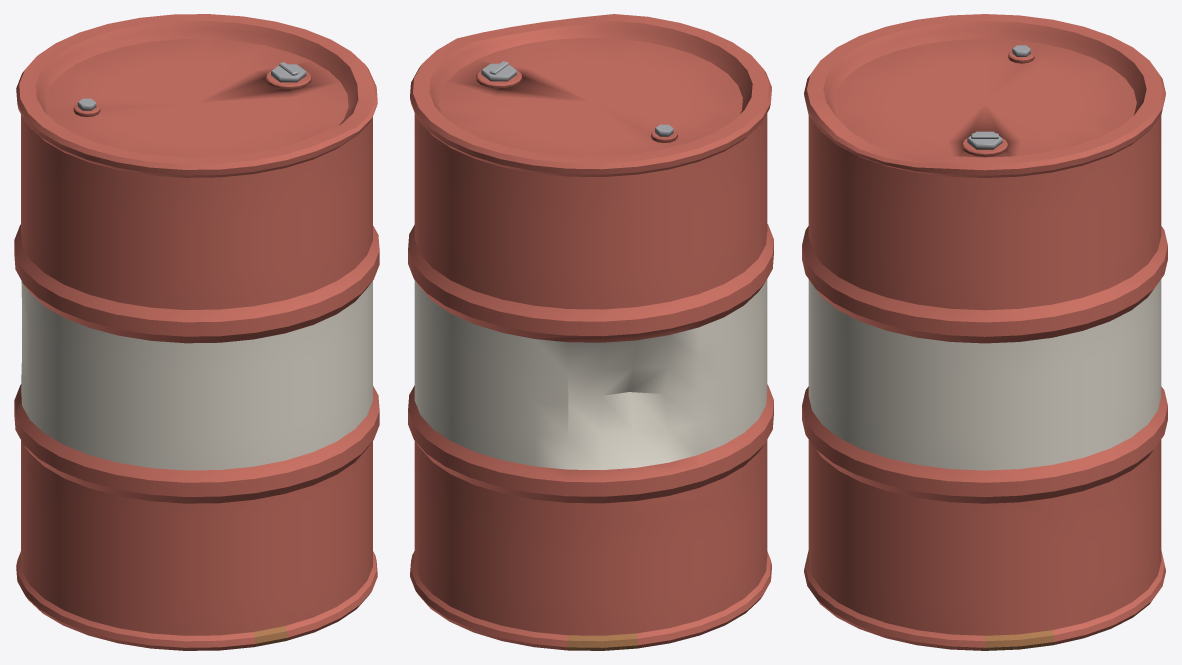
The model's file is drum.glb.
3 views of the same model, side by side, from view 1: azimuth 30°, elevation 25°; view 2: azimuth 150°, elevation 25°; view 3: azimuth 270°, elevation 25° (orthographic).
Visible parts, largest first — view 1: PART; view 2: PART; view 3: PART.
Boxes of the visible parts, x1,y1,x2,y2 form: PART: (14,14,379,650); PART: (408,14,773,650); PART: (802,14,1167,650).
Size of the model in its own units: 0.6 by 0.88 by 0.6.
